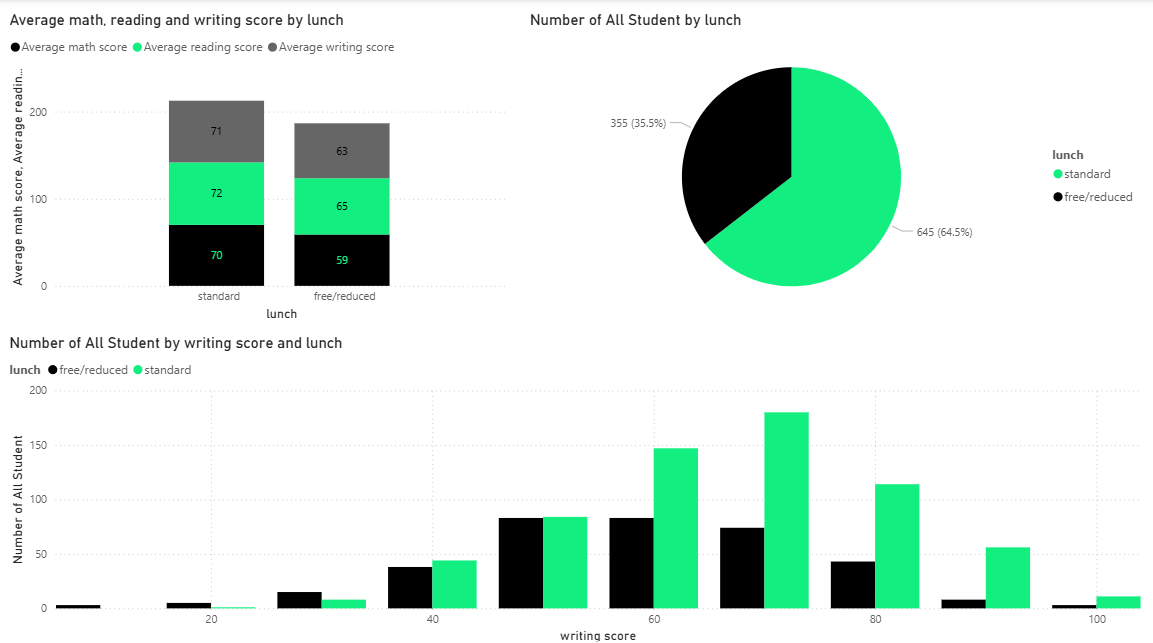

The page's visual inventory and layout, read from the dashboard file:
{"tool":"powerbi","page":{"name":"Effect of Lunch on Performance","canvas":[1280,720],"ordinal":4},"visuals":[{"type":"columnChart","title":"Average math, reading and writing score by lunch","fields":{"Category":["DimStudent.lunch"],"Y":["_Measures.Average math score","_Measures.Average reading score","_Measures.Average writing score"]},"box":[9.9,13.3,559.9,346.2],"z":0},{"type":"clusteredColumnChart","fields":{"Category":["FactStudentsScores.math score (bins)","FactStudentsScores.reading score (bins)","FactStudentsScores.writing score (bins)"],"Y":["_Measures.Number of All Student"],"Series":["DimStudent.lunch"]},"box":[9.9,369.4,1258.9,346.2],"z":1000},{"type":"pieChart","fields":{"Category":["DimStudent.lunch"],"Y":["_Measures.Number of All Student"]},"box":[584.7,13.3,685.8,346.2],"z":2000}]}

Visuals, with their boxes in screenshot pixels (x1, y1, x2, y2), scaled from the page's 1280x720 canvas onto the 1153x643 screenshot:
"Average math, reading and writing score by lunch" columnChart: [left=9, top=12, right=513, bottom=321]
clusteredColumnChart - FactStudentsScores.math score (bins) x FactStudentsScores.reading score (bins): [left=9, top=330, right=1143, bottom=639]
pieChart - DimStudent.lunch x _Measures.Number of All Student: [left=527, top=12, right=1144, bottom=321]
